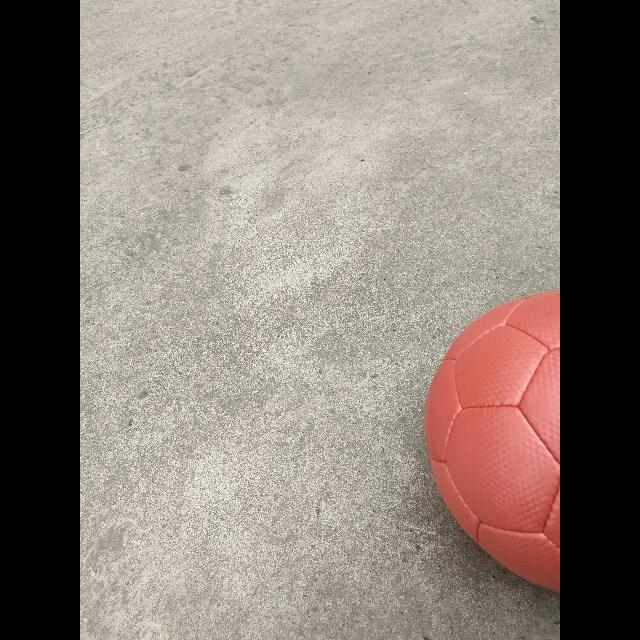R: (425, 292, 559, 592)
